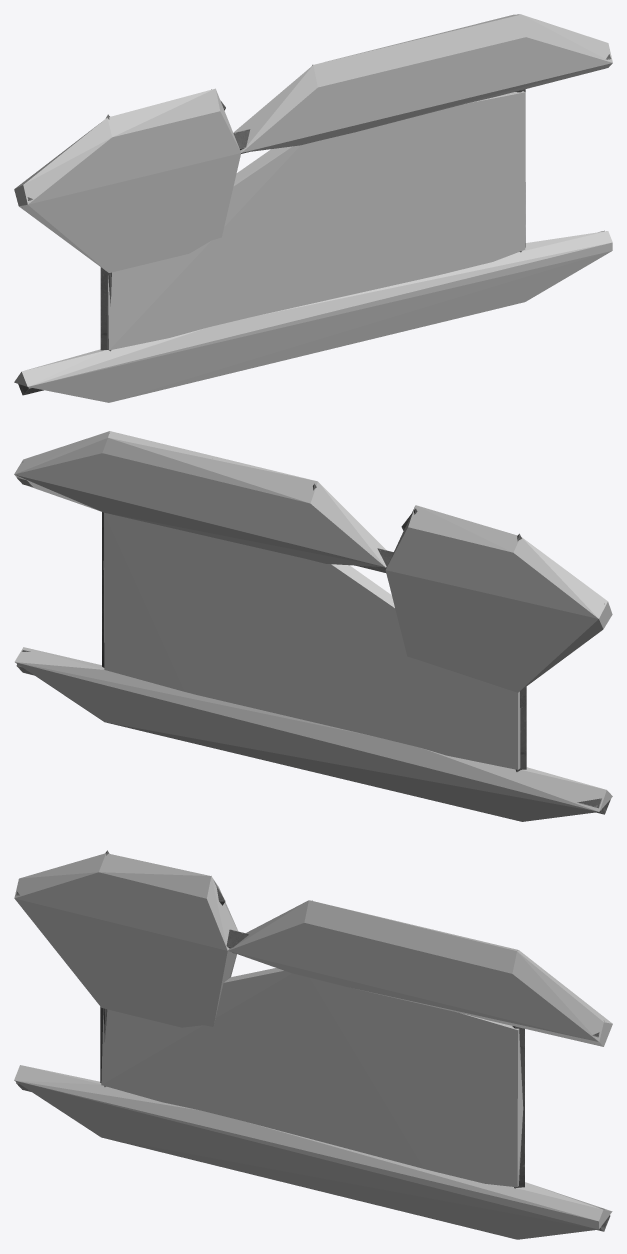
The model's file is SM_Fence.fbx.
The picture shows the model from 3 angles, top to bottom: view 1: azimuth 30°, elevation 25°; view 2: azimuth 150°, elevation 25°; view 3: azimuth 330°, elevation 25°; orthographic projection.
Visible parts, largest first — view 1: SM_Fence_ConvexHulls, SM_Fence; view 2: SM_Fence_ConvexHulls, SM_Fence; view 3: SM_Fence_ConvexHulls, SM_Fence.
Boxes of the visible parts, x1,y1,x2,y2 form: SM_Fence_ConvexHulls: (14,14,612,402); SM_Fence: (18,14,610,395); SM_Fence_ConvexHulls: (14,431,612,821); SM_Fence: (16,433,610,814); SM_Fence_ConvexHulls: (14,853,612,1239); SM_Fence: (16,850,610,1231).
Size of the model in its own units: 343 by 14.01 by 161.
Materials: 2 (1 with a texture image).
